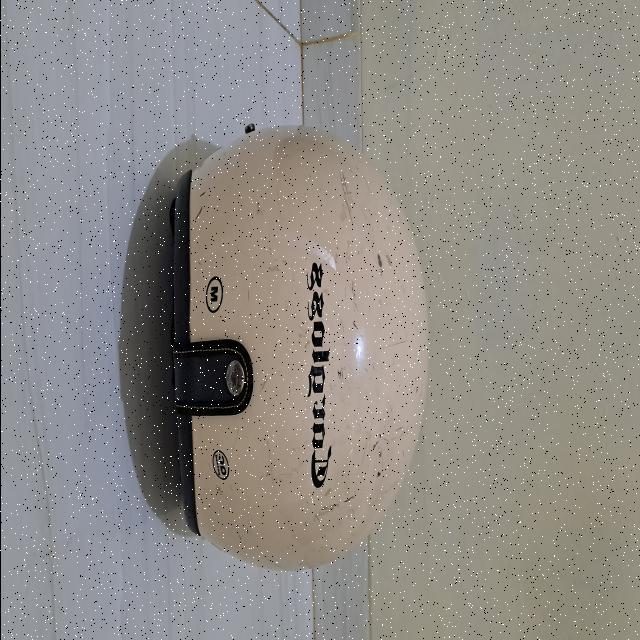Helmet: (170, 122, 427, 572)
